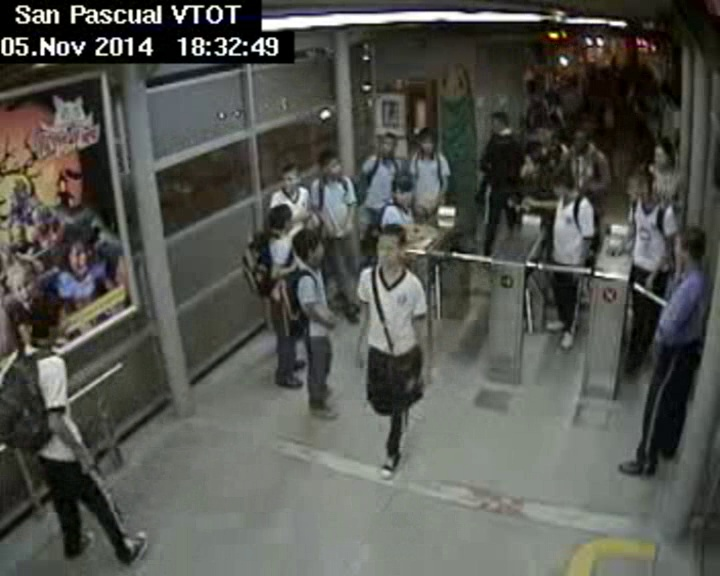person: (16, 291, 77, 346), (368, 229, 409, 272), (671, 221, 705, 272), (291, 233, 328, 268), (388, 169, 415, 209), (314, 148, 346, 181), (269, 198, 296, 236), (549, 172, 580, 204), (649, 132, 680, 163), (632, 171, 660, 203), (492, 108, 518, 137), (575, 125, 598, 156), (543, 129, 568, 156), (279, 164, 302, 193), (378, 132, 399, 156), (417, 126, 435, 149), (521, 79, 539, 94), (547, 88, 562, 105)
